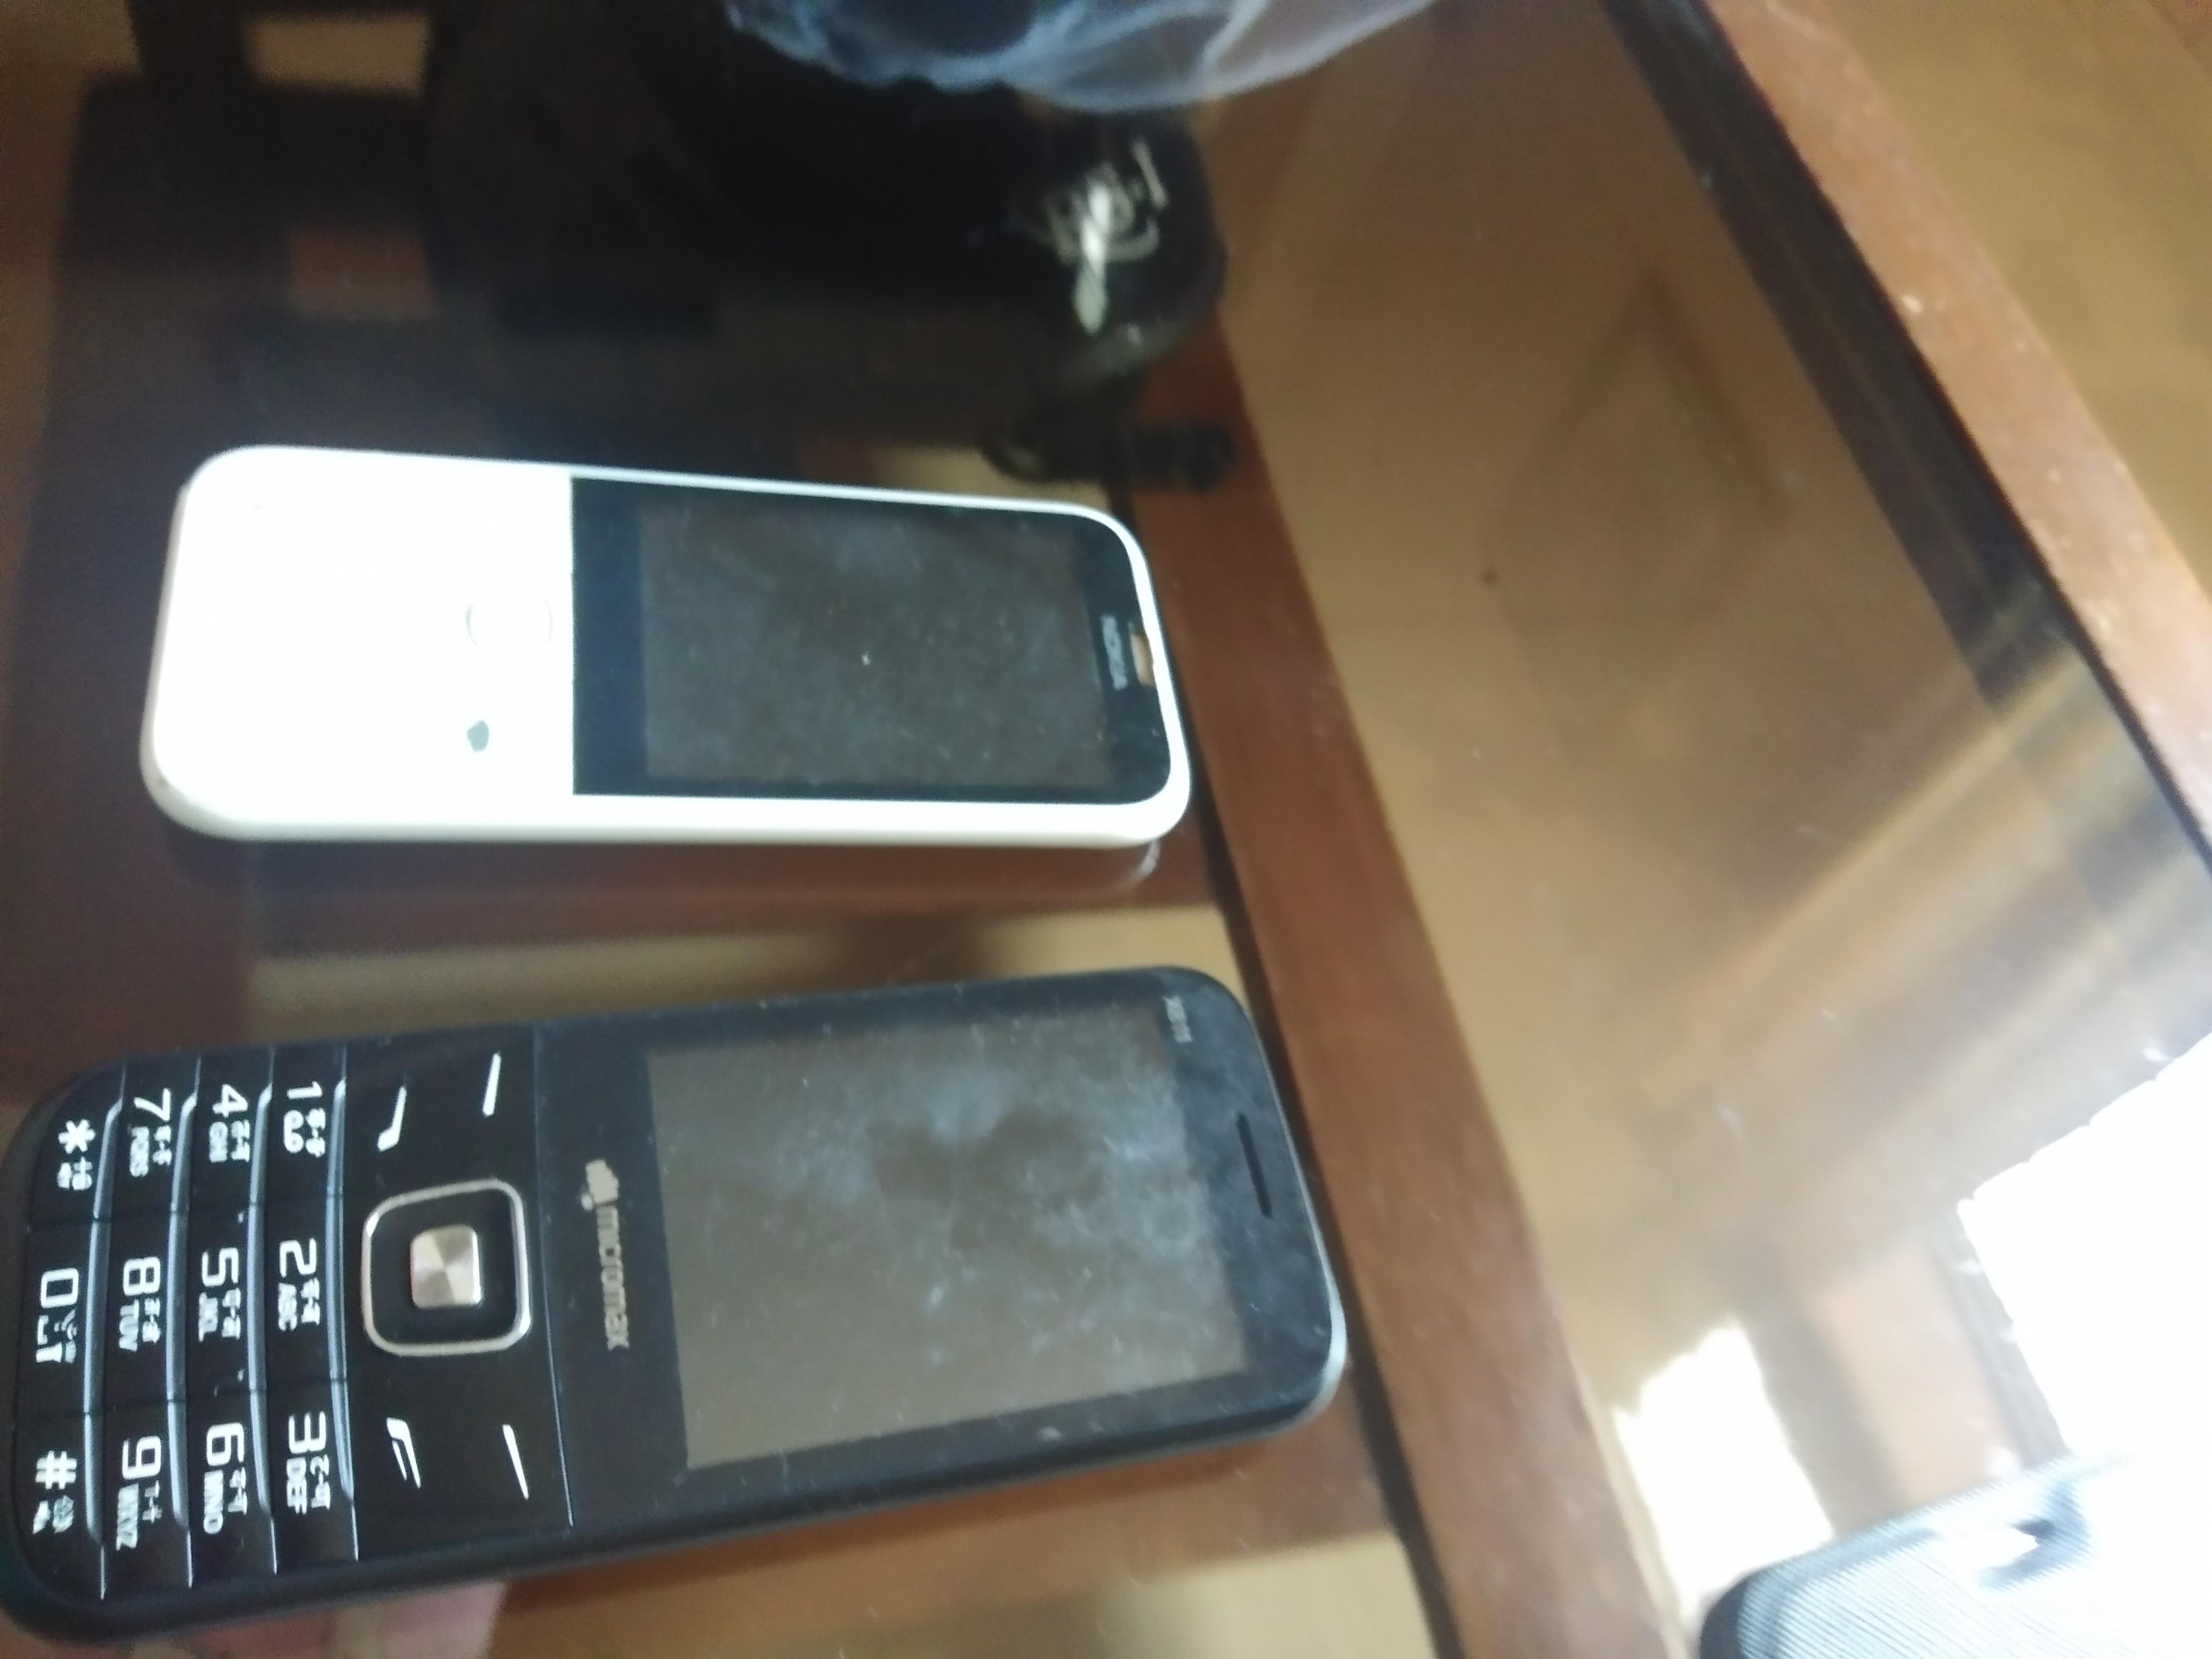Phone: (0, 930, 1372, 1652), (116, 422, 1224, 897)
